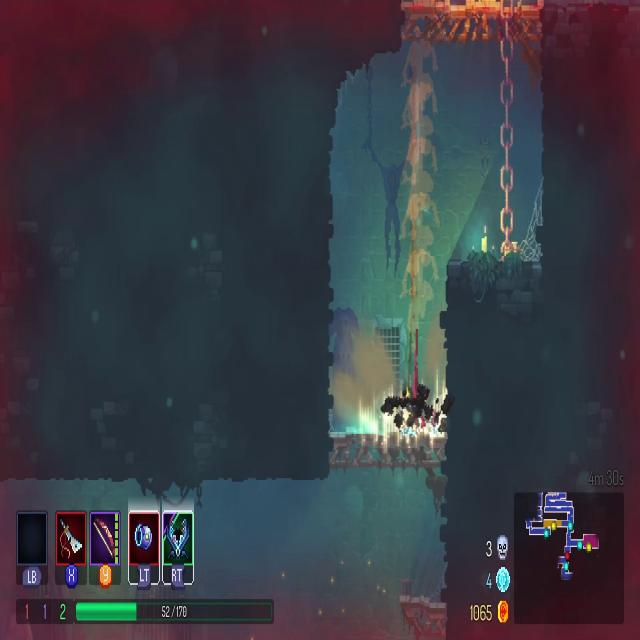agents: (382, 372, 450, 440)
wood_floor: (402, 0, 542, 43), (329, 429, 451, 469), (401, 590, 448, 637)
